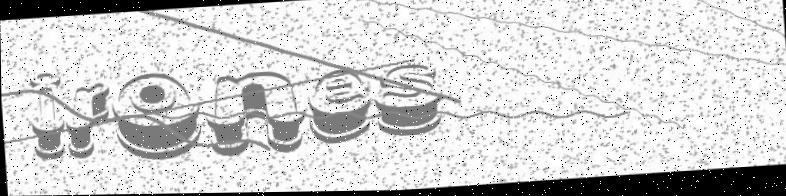e: (303, 62, 374, 151)
i: (21, 63, 72, 166)
n: (201, 68, 308, 160)
o: (107, 65, 206, 165)
r: (65, 81, 116, 166)
s: (372, 58, 448, 144)
